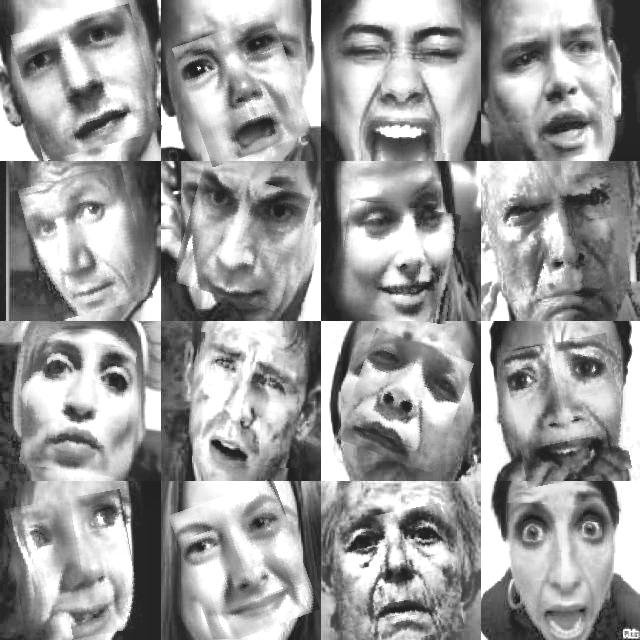angry: (178, 172, 304, 306), (499, 173, 629, 299), (502, 28, 624, 154)
fear: (194, 334, 308, 467), (504, 504, 618, 628)
happy: (178, 485, 310, 640), (335, 14, 457, 152), (23, 339, 133, 474), (338, 202, 458, 320)
neutral: (18, 10, 155, 155), (26, 170, 146, 317), (338, 507, 458, 640)
sad: (9, 493, 138, 640), (181, 21, 305, 161), (508, 338, 626, 484), (344, 335, 466, 467)
